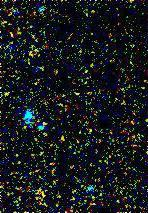star: (53, 125, 83, 155)
